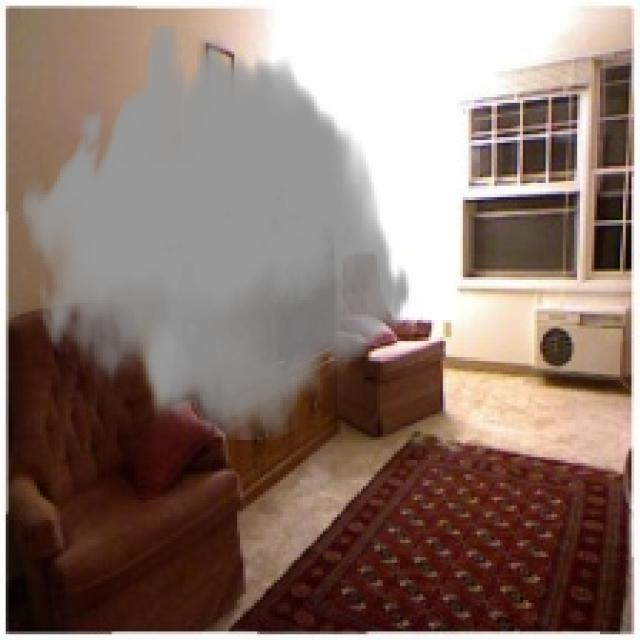Smoke: (19, 26, 412, 440)
